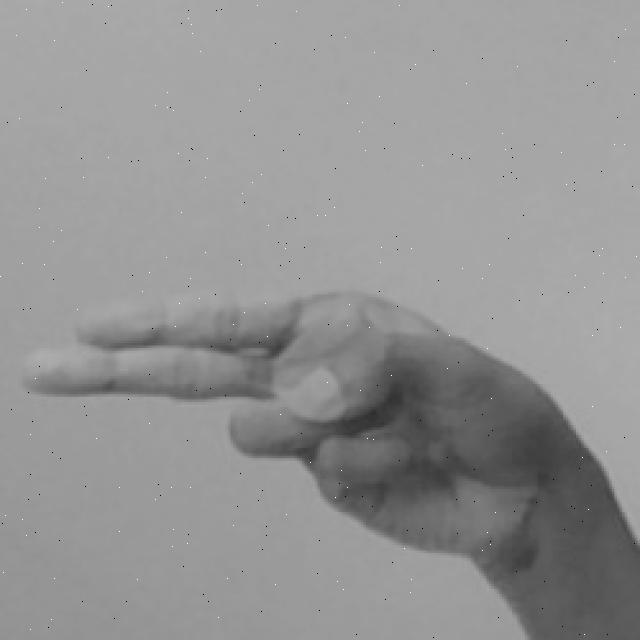H: (18, 284, 637, 640), (18, 289, 640, 640)
